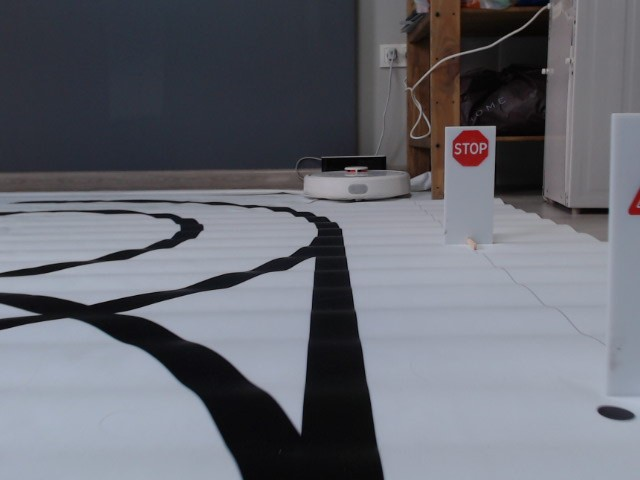Stop: (449, 129, 489, 166)
